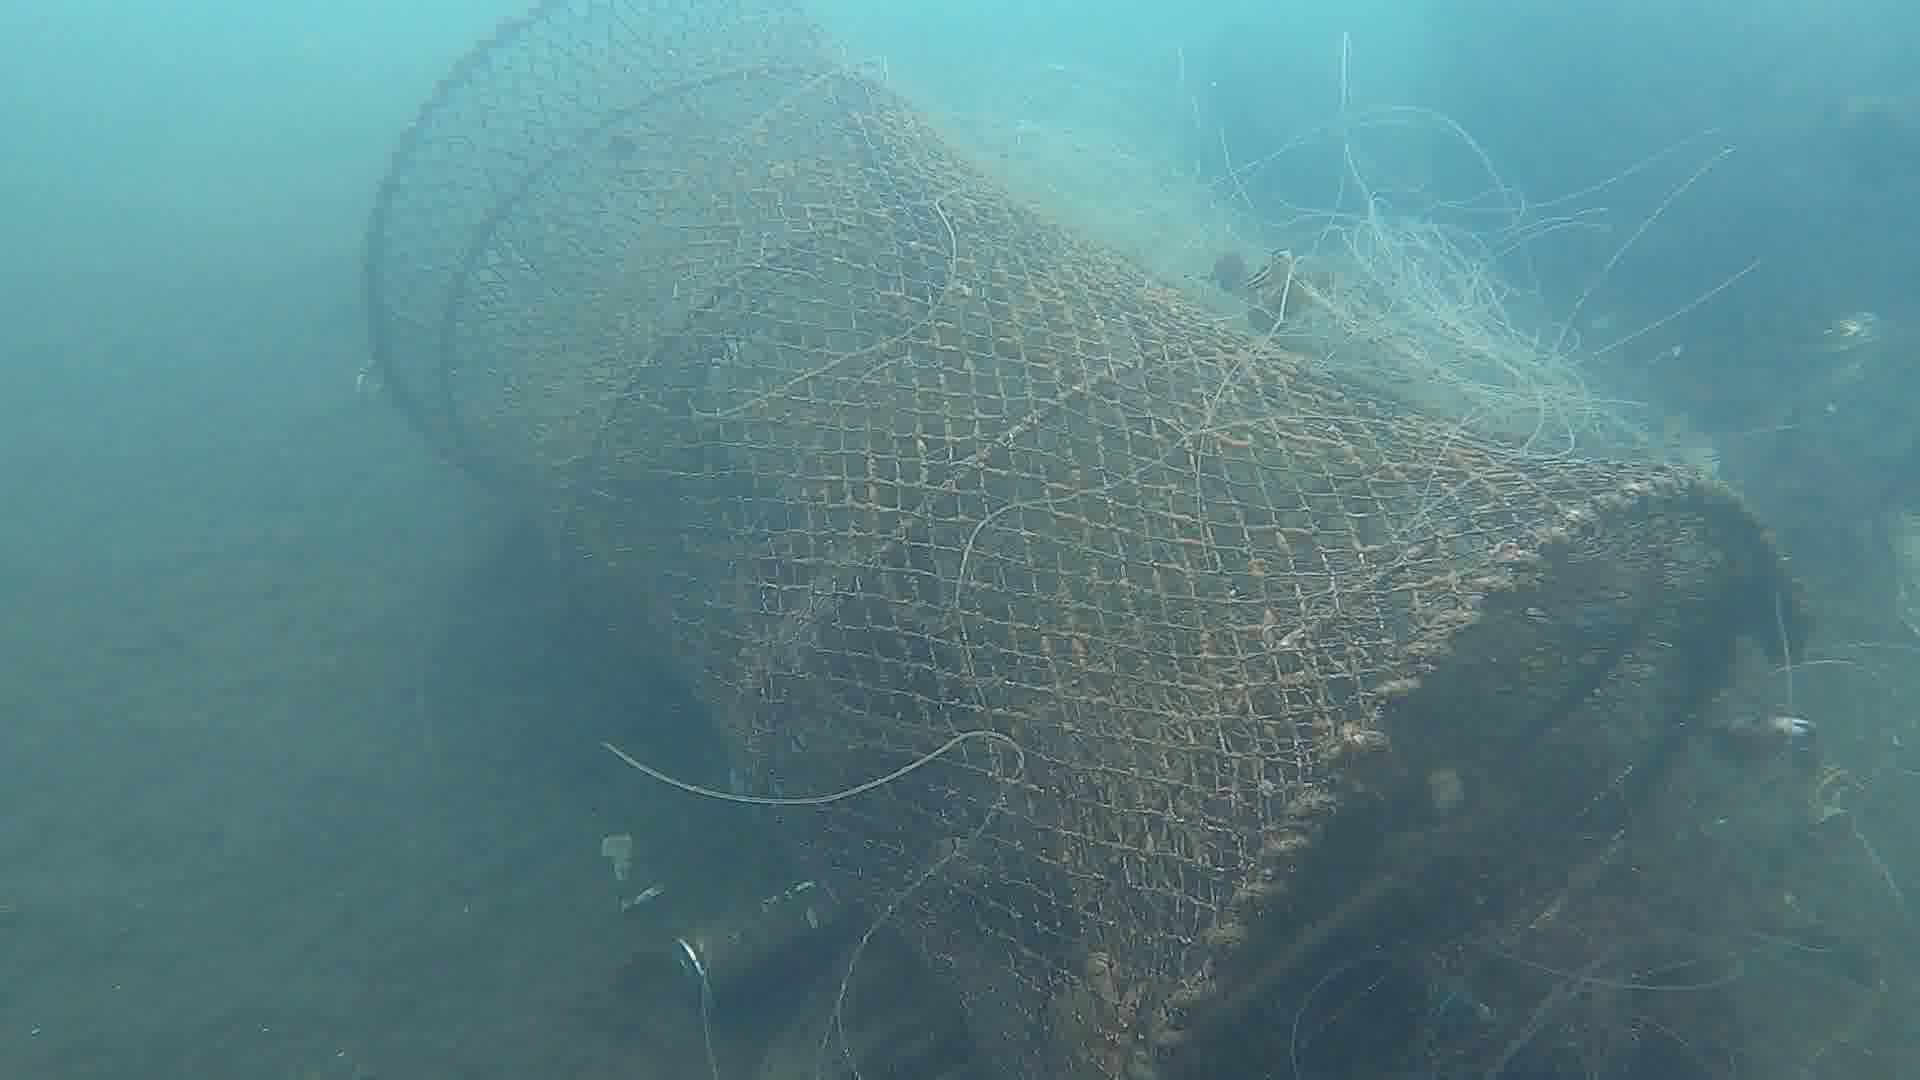spring fish trap: (356, 0, 1817, 1080)
